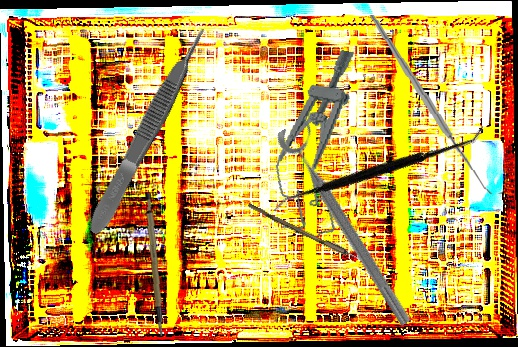Fixation Ring: (273, 115, 428, 331)
Hook Surgical: (369, 8, 502, 201)
Pusher: (326, 198, 413, 321)
Scalpel Handle: (135, 192, 171, 337)
Spatula Surgical: (271, 55, 486, 282)
Speculum: (263, 41, 370, 240)
Surgical Spoon: (246, 203, 383, 272)
Tissue Forceps: (82, 24, 215, 238)
